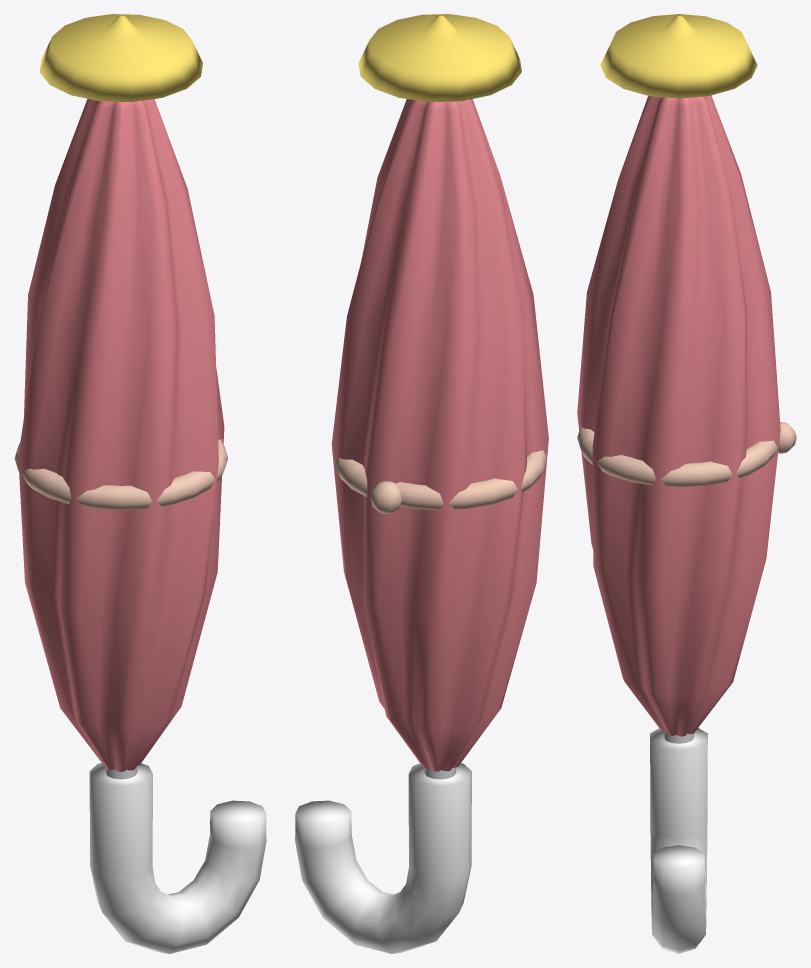
The model's file is ParasolPlummetUmbrellaShut.glb.
3 renders of one model, left to right at view 1: azimuth 30°, elevation 25°; view 2: azimuth 150°, elevation 25°; view 3: azimuth 270°, elevation 25°, orthographic. The views are drawn at different scales.
Visible parts, largest first — view 1: Canopy, Handle, Tip, Stripe; view 2: Canopy, Handle, Tip, Stripe; view 3: Canopy, Handle, Tip, Stripe.
Part boxes in pixels (box(x1,y1,x2,y2)): Canopy: box(18, 98, 224, 772); Handle: box(89, 763, 266, 953); Tip: box(39, 14, 202, 102); Stripe: box(14, 439, 227, 510); Canopy: box(331, 99, 548, 771); Handle: box(295, 763, 471, 953); Tip: box(358, 14, 521, 102); Stripe: box(334, 450, 546, 514); Canopy: box(577, 95, 780, 736); Handle: box(650, 728, 707, 953); Tip: box(600, 14, 757, 98); Stripe: box(577, 422, 796, 487).
Size of the model in its own units: 1.44 by 5.57 by 1.23.
